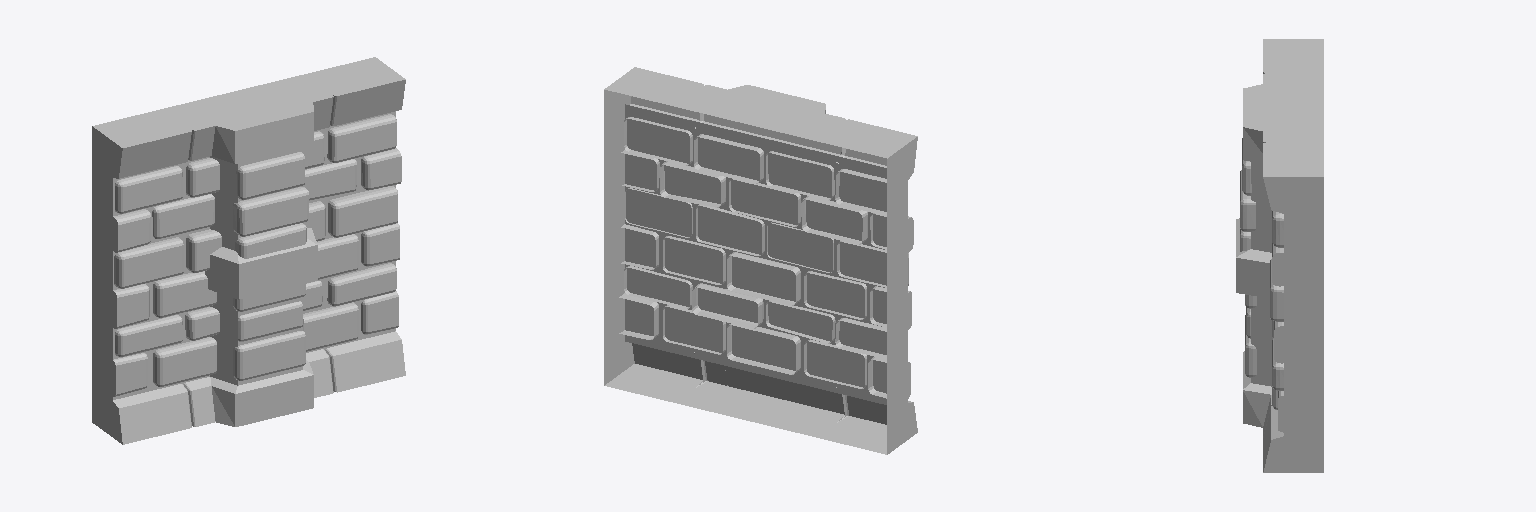
Rendered from wallSingle_decorationA.obj.
3 renders of one model, left to right at view 1: azimuth 30°, elevation 25°; view 2: azimuth 150°, elevation 25°; view 3: azimuth 270°, elevation 25°, orthographic.
Parts seen in each view (by area): view 1: wallSingle_decorationA_Cube.2627; view 2: wallSingle_decorationA_Cube.2627; view 3: wallSingle_decorationA_Cube.2627.
Part boxes in pixels (x1,y1,x2,y2): wallSingle_decorationA_Cube.2627: (92, 57, 405, 444); wallSingle_decorationA_Cube.2627: (604, 67, 917, 454); wallSingle_decorationA_Cube.2627: (1236, 39, 1323, 472).
Bounding box in the file's own units: 4 × 4 × 1.09.